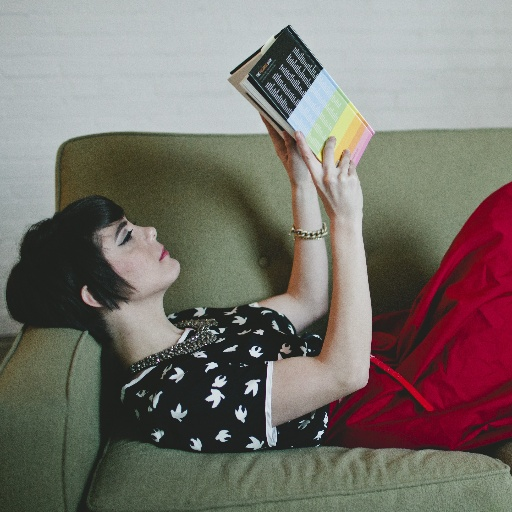hand: (294, 128, 363, 217), (259, 114, 313, 182)
